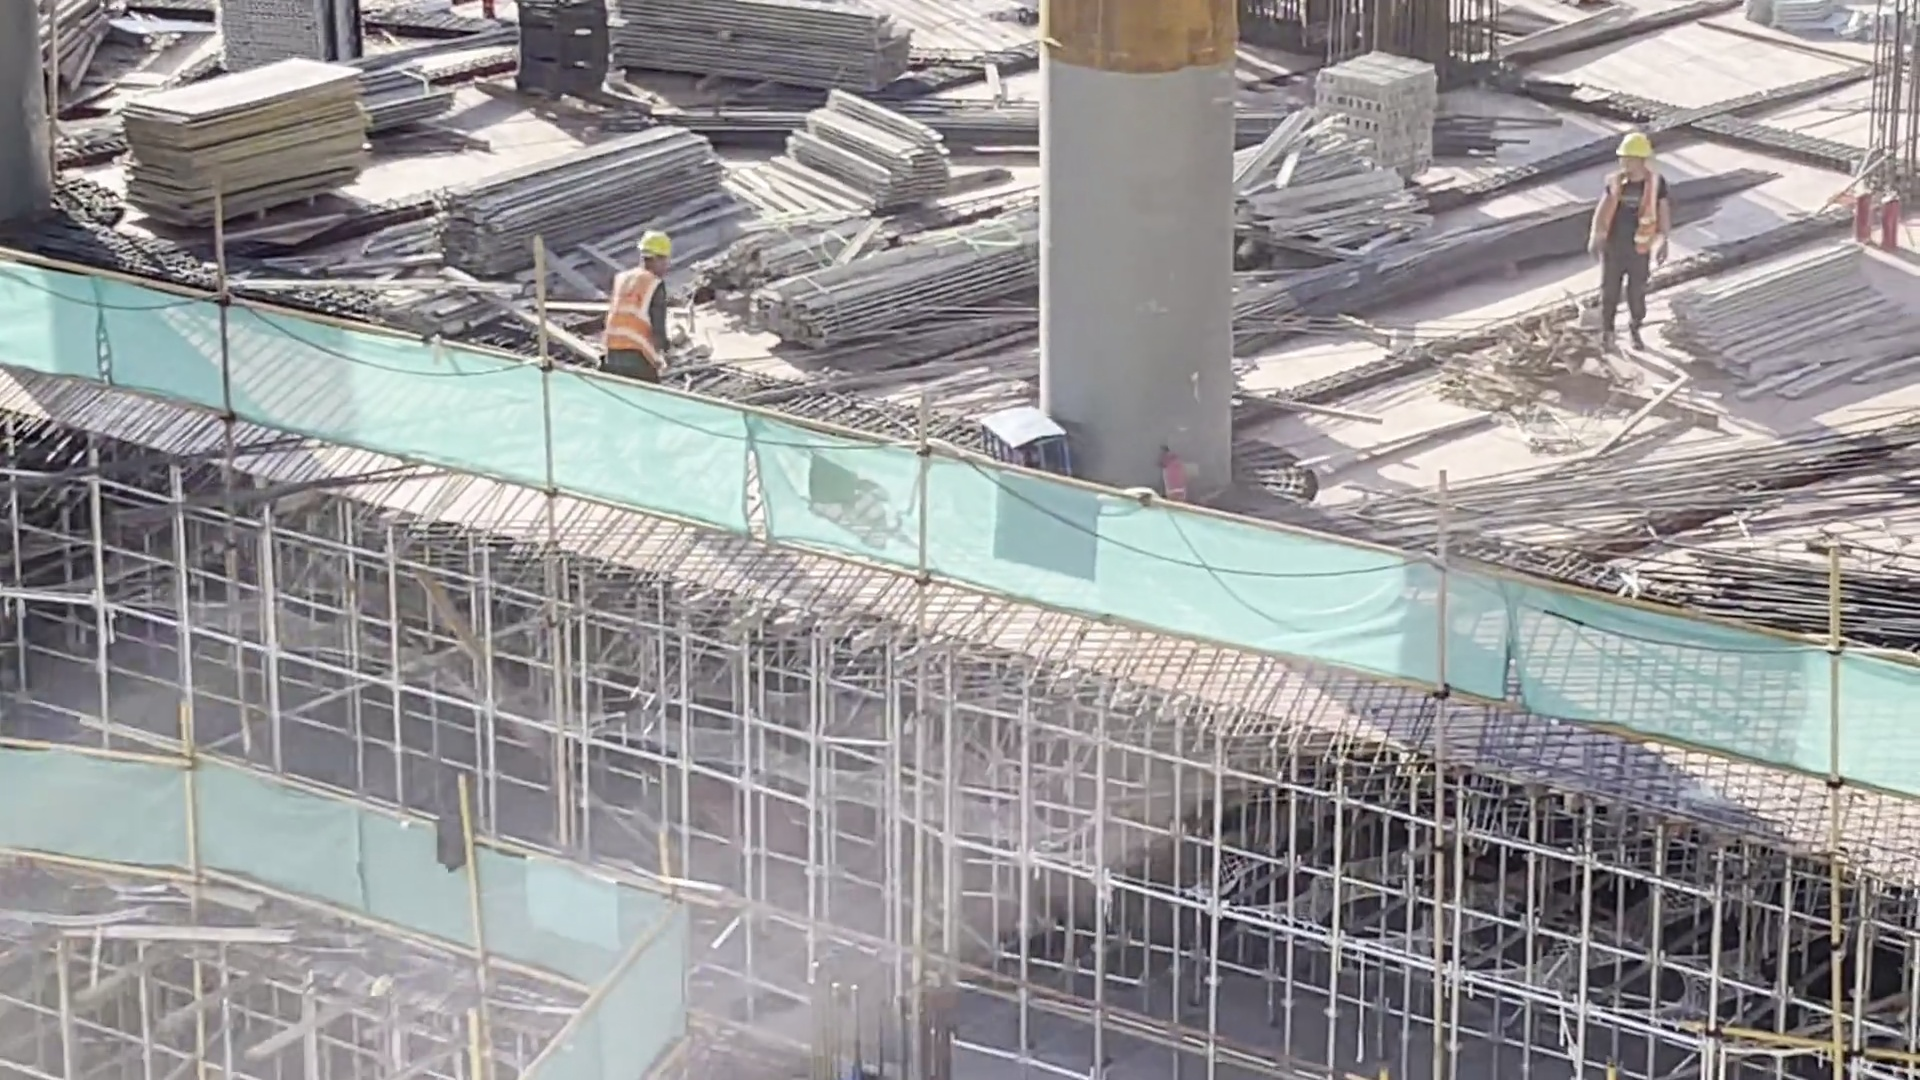board: (107, 50, 381, 228)
person: (1588, 108, 1666, 343), (601, 220, 671, 382)
vest: (1601, 174, 1670, 261), (612, 268, 668, 350), (627, 220, 665, 261), (1615, 131, 1655, 163)
wood: (1670, 231, 1917, 394), (445, 123, 730, 256), (756, 216, 1058, 341), (610, 1, 933, 95), (784, 89, 954, 216)
